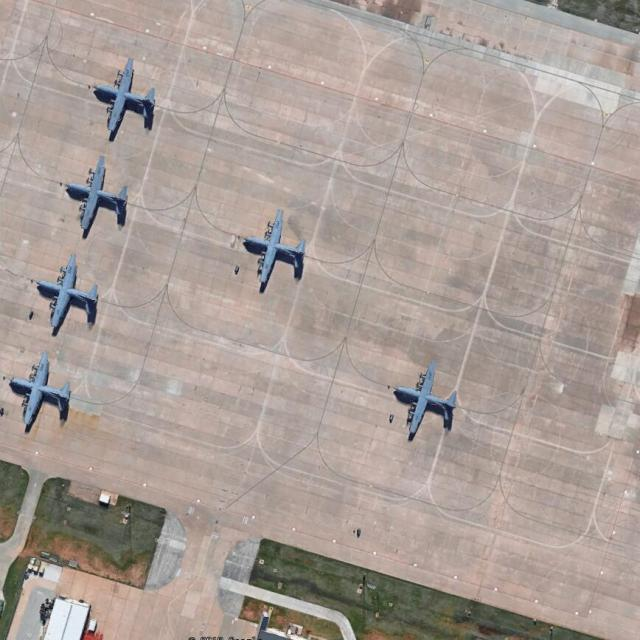fighter jet: (238, 208, 306, 287), (385, 364, 459, 436), (91, 58, 159, 128), (4, 360, 76, 426), (62, 157, 128, 225), (34, 256, 95, 320)
